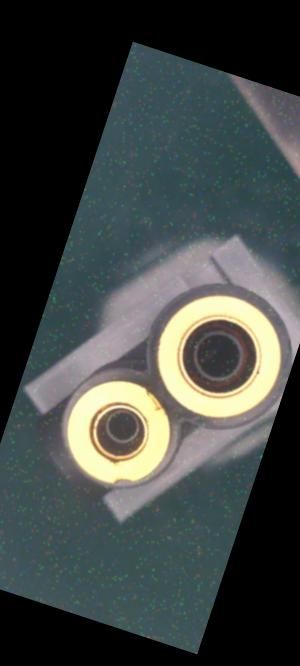bump: (130, 382, 175, 418), (110, 471, 135, 491)
